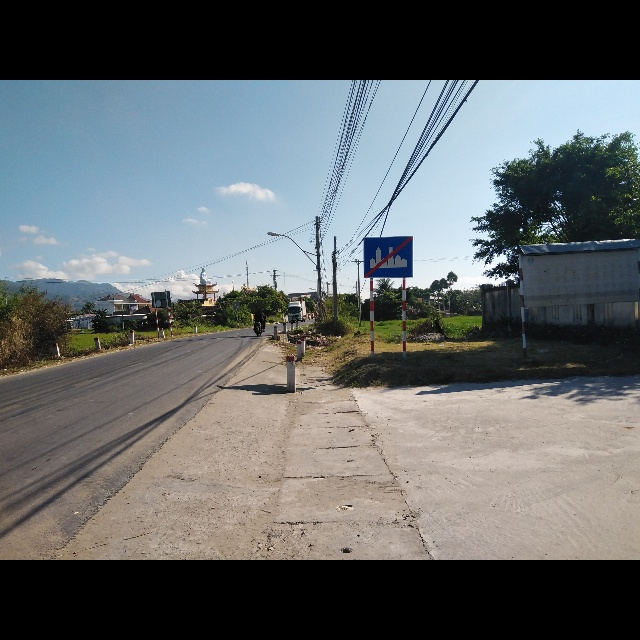Hết khu đông dân cư: (362, 234, 415, 277)
